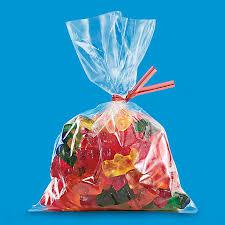Plastic: (30, 7, 203, 218)
